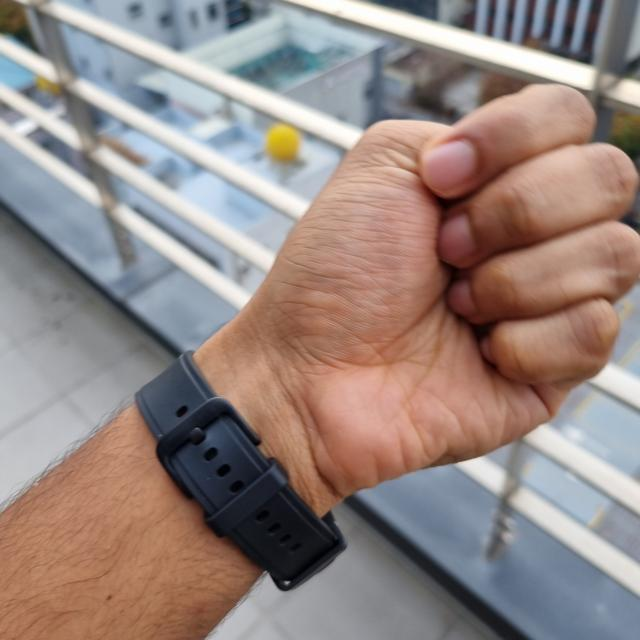Rock: (197, 104, 638, 500)
